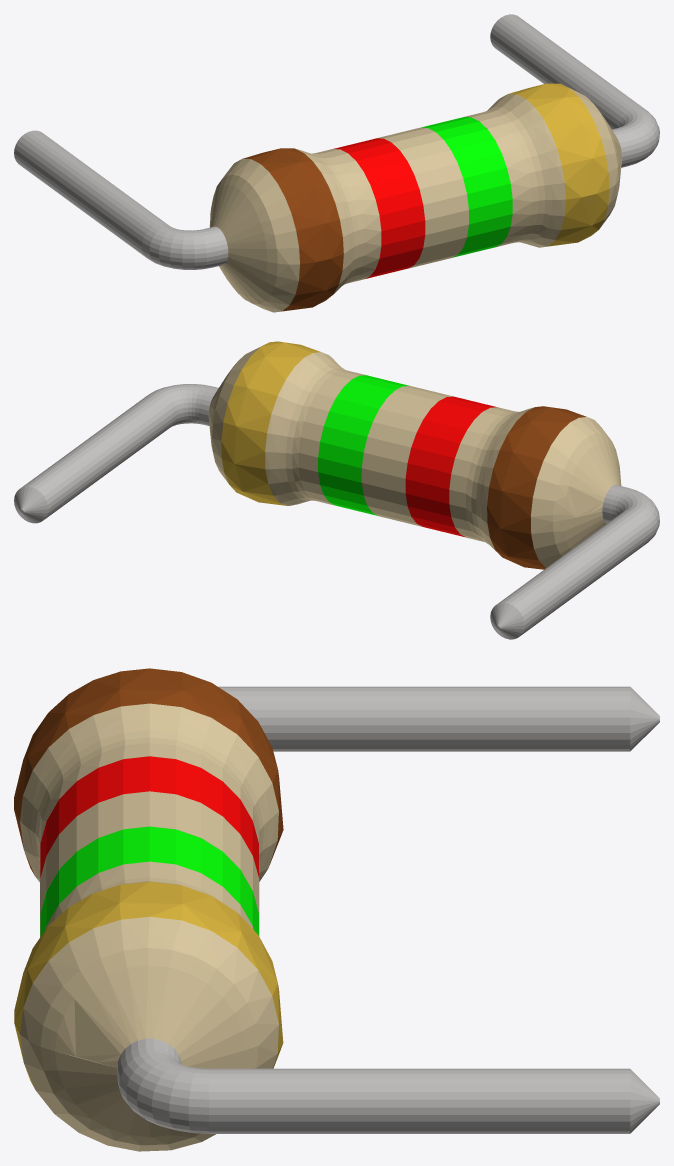
File: Yageo CFR-25 Resistor Axial P7.62mm 1,2 MOhm.obj
3 renders of one model, top to bottom at view 1: azimuth 30°, elevation 25°; view 2: azimuth 150°, elevation 25°; view 3: azimuth 270°, elevation 25°, orthographic. The views are drawn at different scales.
Parts seen in each view (by area): view 1: Yageo_CFR-25_Resistor_Axial_P7.62mm_1,2_MOhm; view 2: Yageo_CFR-25_Resistor_Axial_P7.62mm_1,2_MOhm; view 3: Yageo_CFR-25_Resistor_Axial_P7.62mm_1,2_MOhm.
Boxes of the visible parts, x1,y1,x2,y2 form: Yageo_CFR-25_Resistor_Axial_P7.62mm_1,2_MOhm: (14, 14, 659, 312); Yageo_CFR-25_Resistor_Axial_P7.62mm_1,2_MOhm: (14, 341, 659, 639); Yageo_CFR-25_Resistor_Axial_P7.62mm_1,2_MOhm: (14, 668, 659, 1151).
Bounding box in the file's own units: 0.0184 × 0.00507 × 0.0122.
